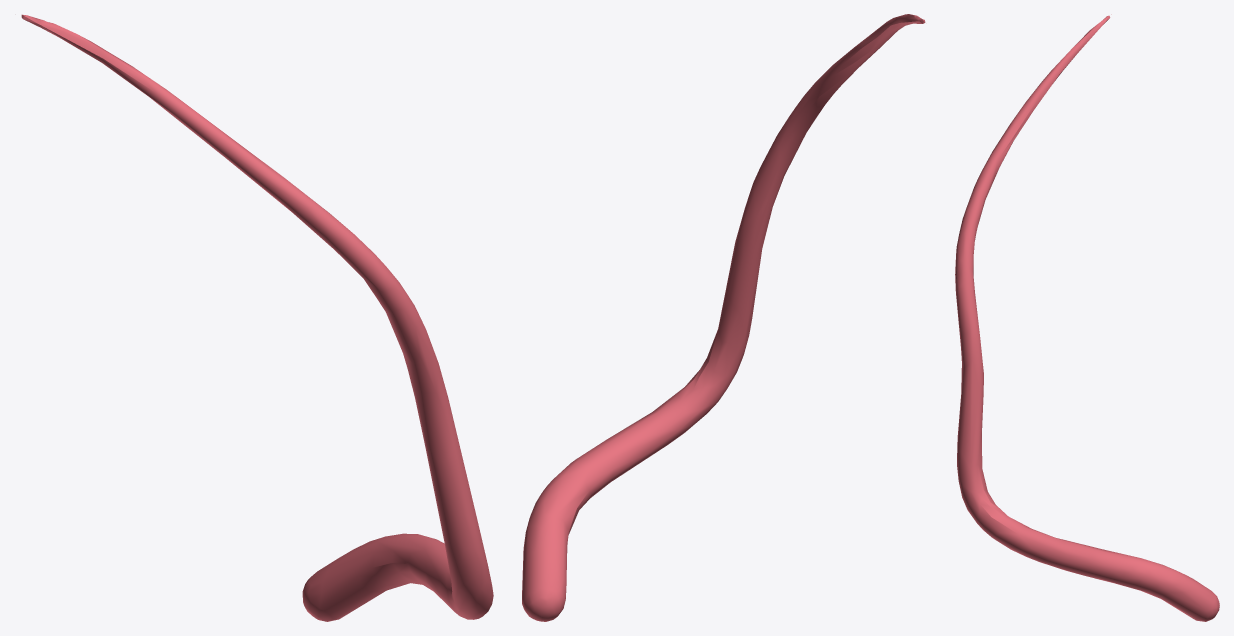
File: fma50351_fj5017.glb
The picture shows the model from 3 angles, left to right: view 1: azimuth 30°, elevation 25°; view 2: azimuth 150°, elevation 25°; view 3: azimuth 270°, elevation 25°; orthographic projection. The views are drawn at different scales.
Parts seen in each view (by area): view 1: FMA50351_FJ5017; view 2: FMA50351_FJ5017; view 3: FMA50351_FJ5017.
Part boxes in pixels (x1,y1,x2,y2): FMA50351_FJ5017: (21,14,493,621); FMA50351_FJ5017: (522,14,925,621); FMA50351_FJ5017: (955,14,1219,621).
Size of the model in its own units: 0.0146 by 0.0238 by 0.0118.
